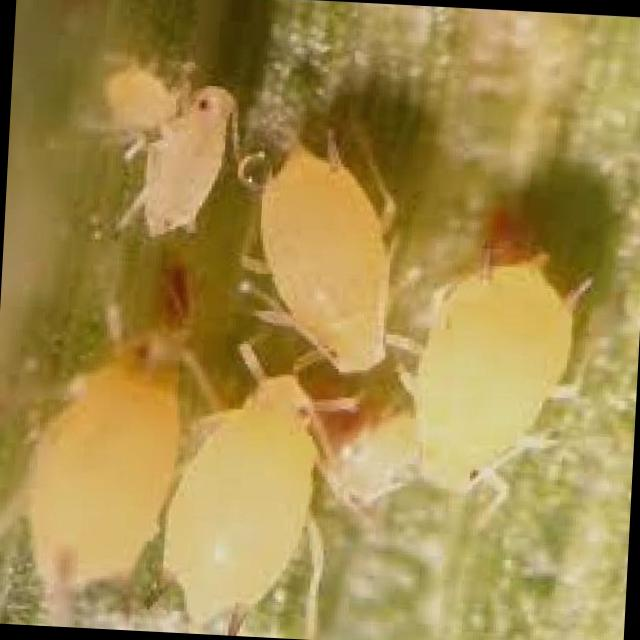aphid: (396, 207, 612, 508), (233, 94, 454, 374), (140, 346, 340, 634), (114, 61, 252, 261)
